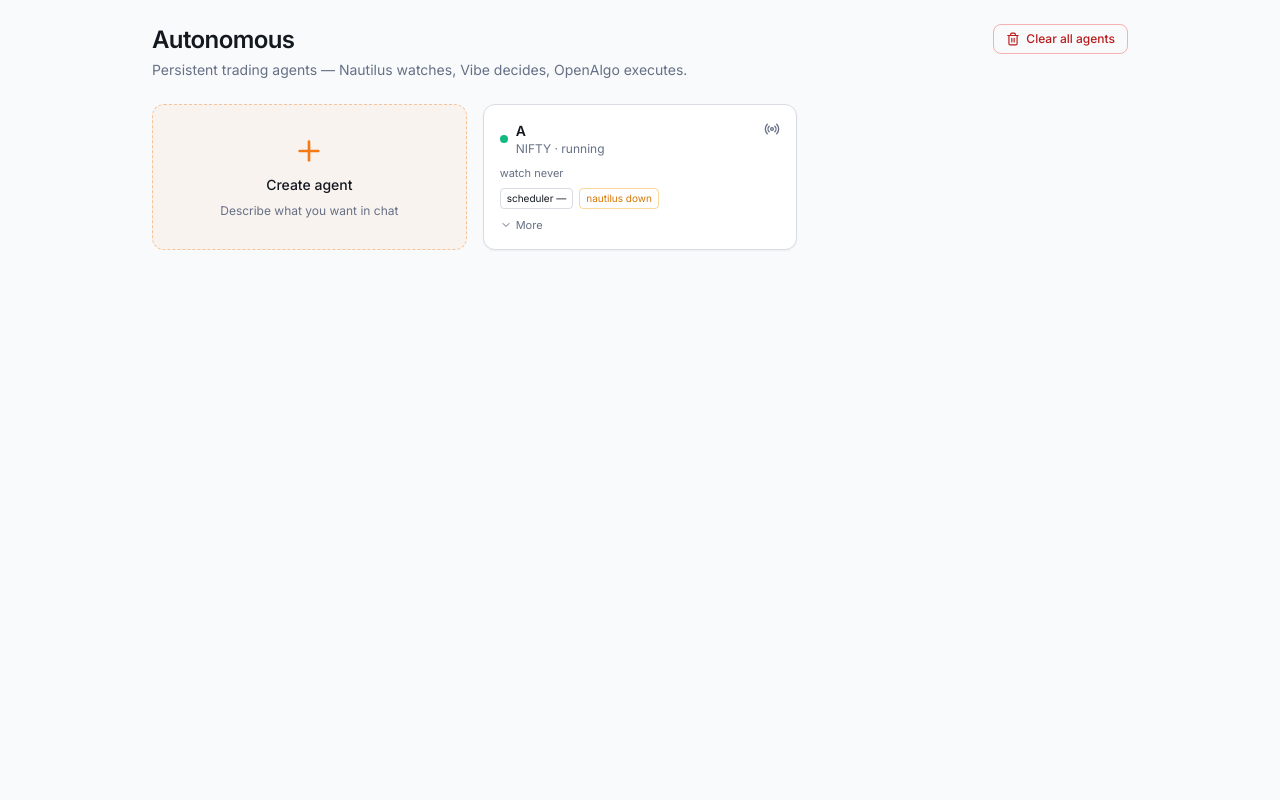
Scenario: AutonomousAgentHub clear-all report › shows unowned positions and problems persistently after a partial clear-all
The width and height of the screenshot is (1280, 800).
Click the button "Clear all agents": (1061, 39) [993,24,1128,54]
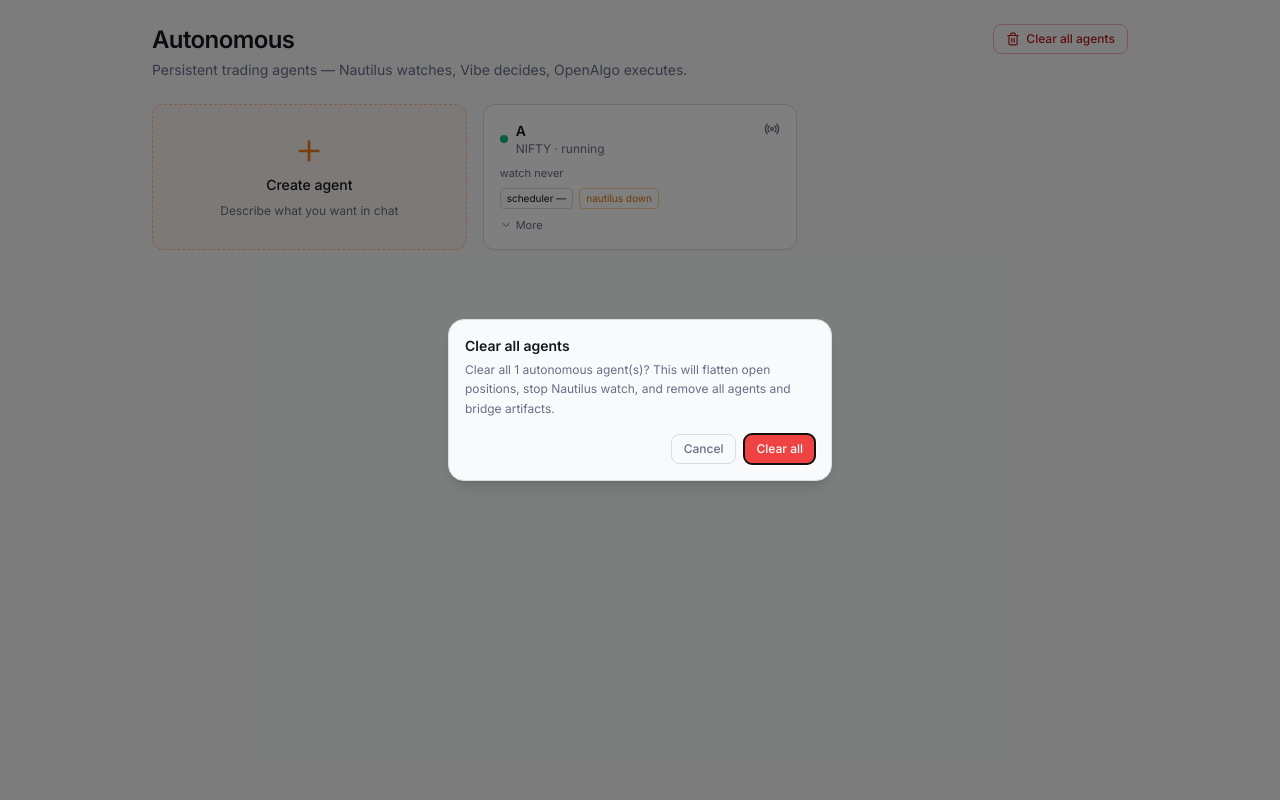
Click the button "Clear all": (780, 449) [744,434,815,464]
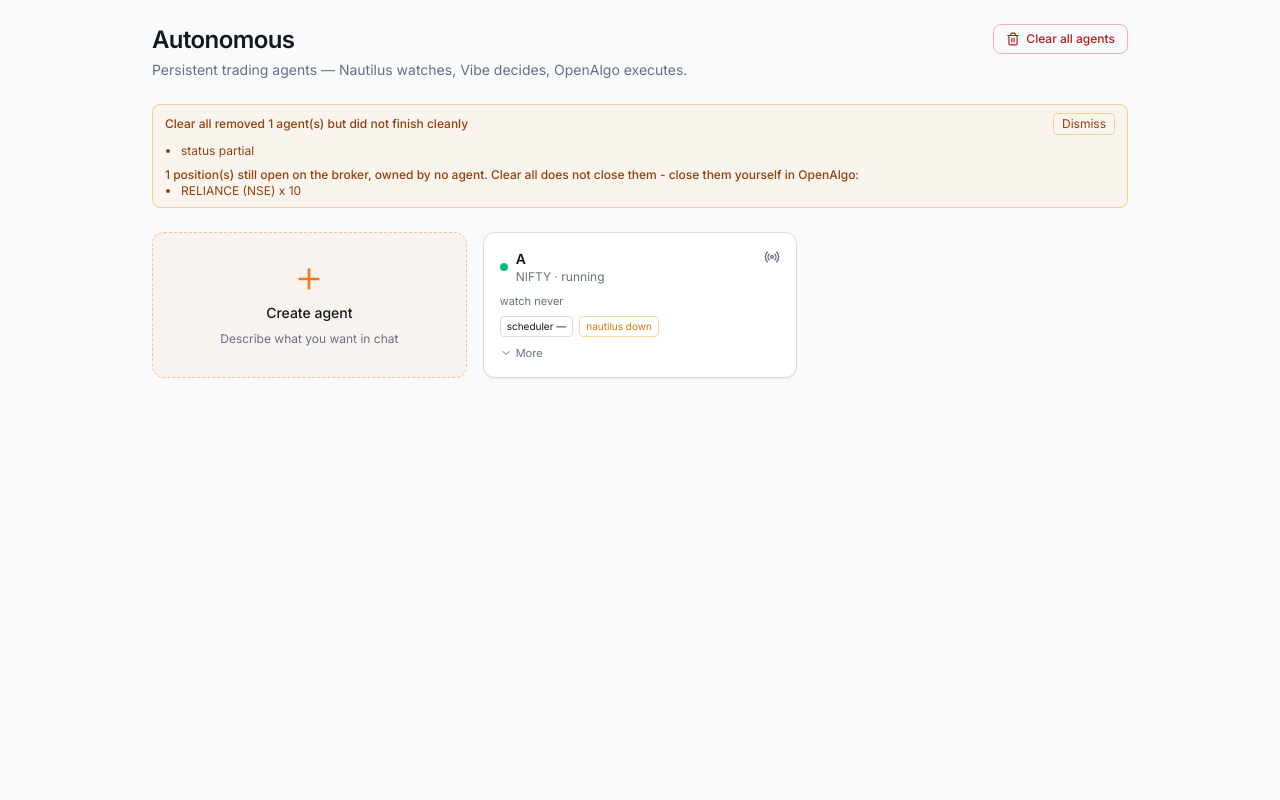
Expected: the list with test id "clear-all-unowned" reads "RELIANCE (NSE) x 10", [181,183,301,198]
Expected: the message with test id "clear-all-report" shows "did not finish cleanly", [273,116,468,131]
